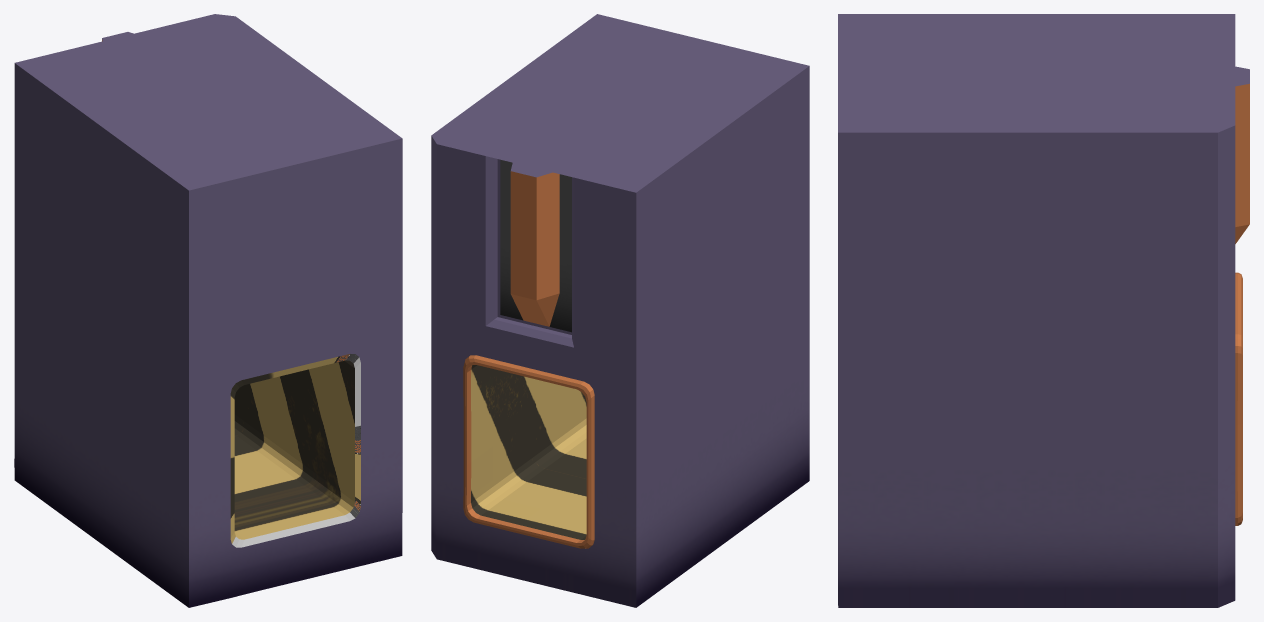
Rendered from Entrance.glb.
The picture shows the model from 3 angles, left to right: view 1: azimuth 30°, elevation 25°; view 2: azimuth 150°, elevation 25°; view 3: azimuth 270°, elevation 25°; orthographic projection. The views are drawn at different scales.
Visible parts, largest first — view 1: Entrance; view 2: Entrance; view 3: Entrance.
Boxes of the visible parts, x1,y1,x2,y2 form: Entrance: [14, 14, 402, 607]; Entrance: [431, 14, 809, 607]; Entrance: [838, 14, 1249, 607].
Bounding box in the file's own units: 1.69 × 3.16 × 2.48.
Materials: 1 (1 with a texture image).
